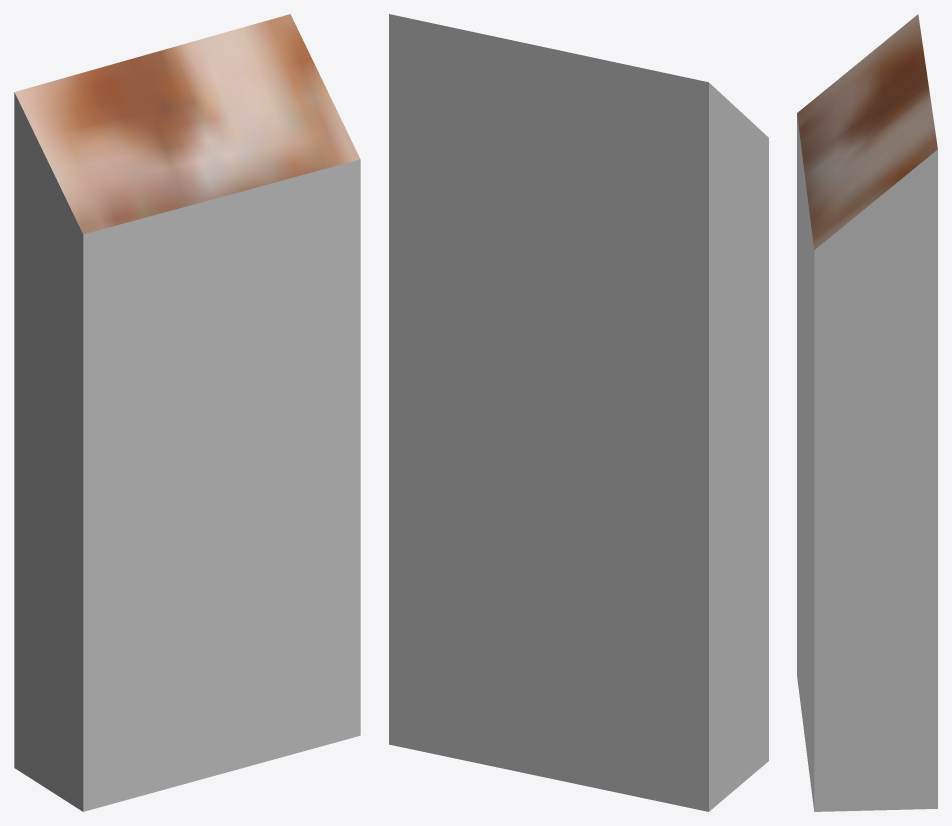
Rendered from DEBW_0010007THYN.gltf.
3 renders of one model, left to right at view 1: azimuth 30°, elevation 25°; view 2: azimuth 150°, elevation 25°; view 3: azimuth 270°, elevation 25°, orthographic. The views are drawn at different scales.
Visible parts, largest first — view 1: Z_UP; view 2: Z_UP; view 3: Z_UP.
Part boxes in pixels (<box>): Z_UP: <box>14,14,360,811</box>; Z_UP: <box>389,14,768,811</box>; Z_UP: <box>797,14,937,811</box>.
Size of the model in its own units: 4.02 by 8.88 by 1.72.
2 materials, 1 textured.
